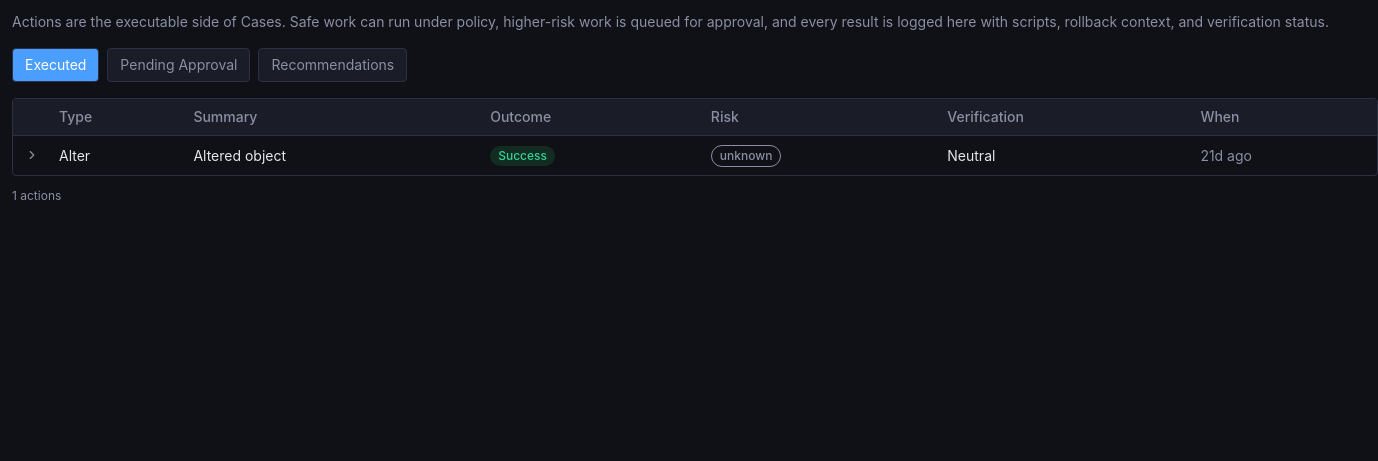
Test: Actions verification outcome › shows the verdict in the ledger and predicted vs observed in the detail
Expected: the text "Neutral" is shown, [939,136,1192,175]
Click the button named "Expand row" at (32,155), box [21,144,43,166]
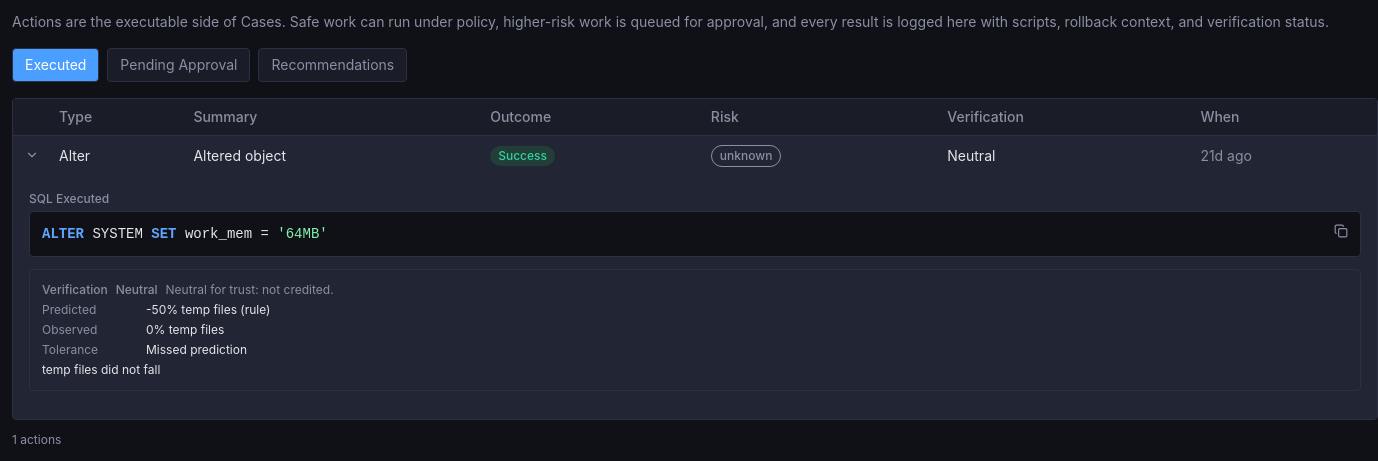
Now the text with test id "outcome-predicted" shows "-50%", box [146,302,270,317]
Now the text with test id "outcome-observed" shows "0%", box [146,322,224,337]
Now the text "temp files did not fall" is shown, box [42,362,160,377]
